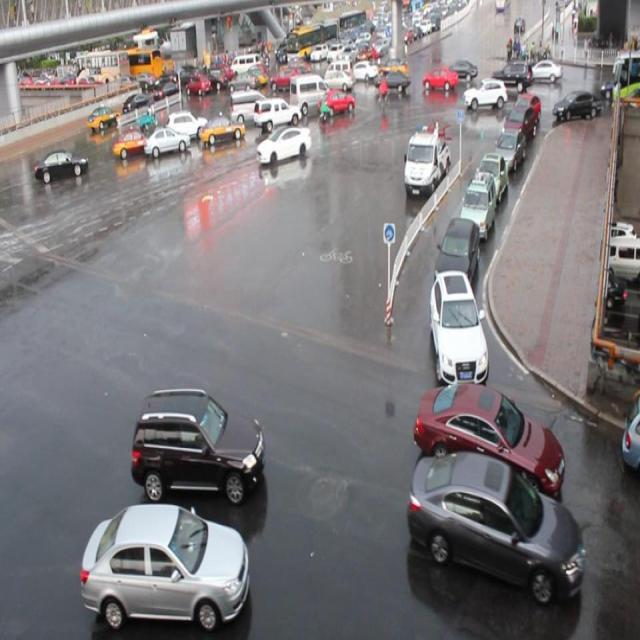car: (73, 491, 296, 636), (400, 444, 576, 610), (411, 378, 572, 482), (136, 365, 256, 503), (425, 268, 496, 382), (243, 119, 327, 199), (405, 55, 492, 110), (36, 141, 98, 203), (308, 89, 383, 139), (408, 129, 442, 205)
